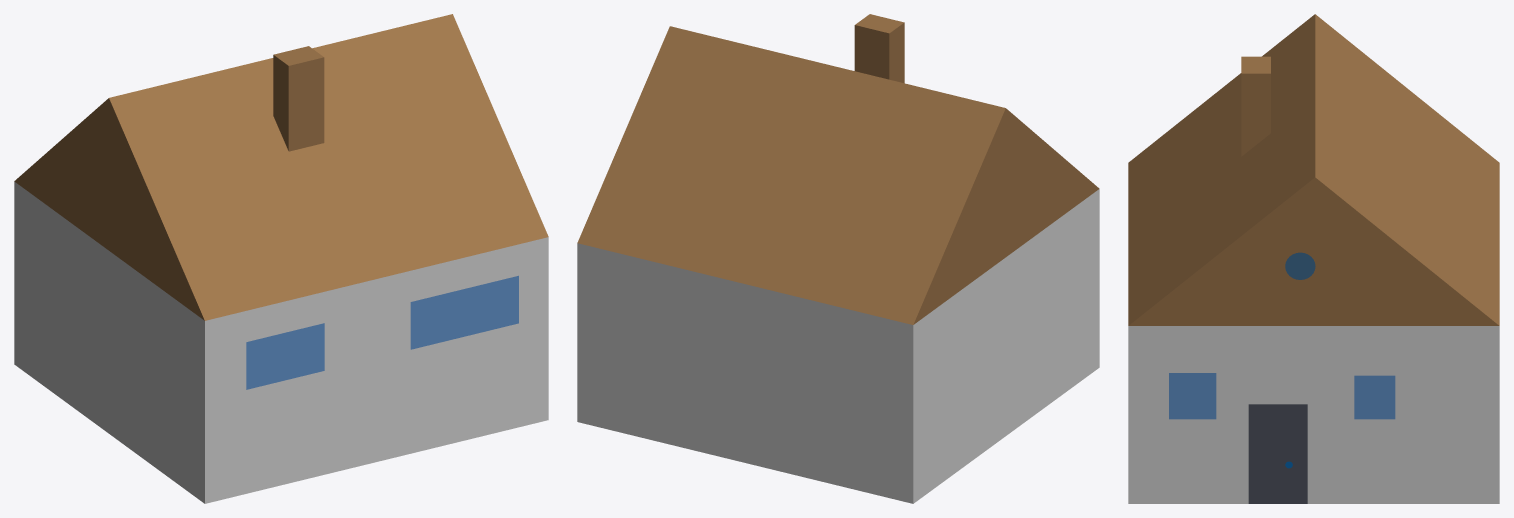
File: Casa+1.dae
The picture shows the model from 3 angles, left to right: view 1: azimuth 30°, elevation 25°; view 2: azimuth 150°, elevation 25°; view 3: azimuth 270°, elevation 25°; orthographic projection. The views are drawn at different scales.
Parts seen in each view (by area): view 1: skp9C44 (×5); view 2: skp9C44 (×3); view 3: skp9C44 (×7).
Boxes of the visible parts, <box> form: skp9C44 (×5): <box>14,14,548,503</box>; skp9C44 (×3): <box>577,14,1099,503</box>; skp9C44 (×7): <box>1128,14,1499,503</box>.
Bounding box in the file's own units: 160 × 154 × 161.
